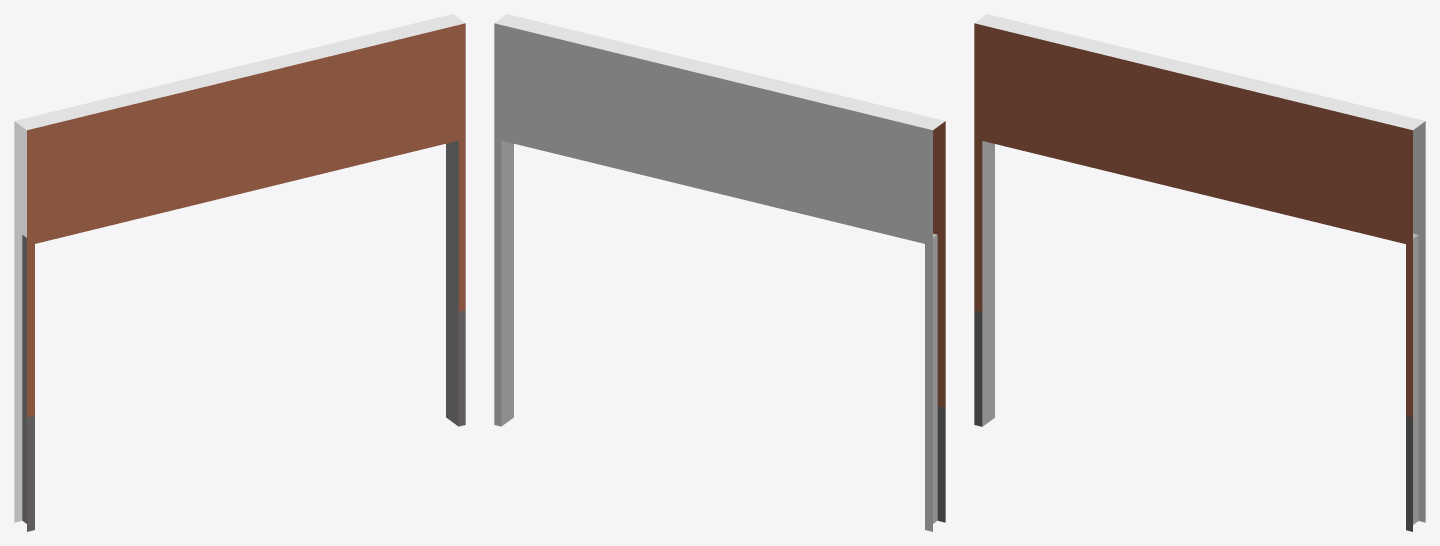
Rendered from SM_Outer_Wall_Door_C_400.FBX.
3 renders of one model, left to right at view 1: azimuth 30°, elevation 25°; view 2: azimuth 150°, elevation 25°; view 3: azimuth 330°, elevation 25°, orthographic.
Visible parts, largest first — view 1: SM_Outer_Wall_Door_C_400; view 2: SM_Outer_Wall_Door_C_400; view 3: SM_Outer_Wall_Door_C_400.
Boxes of the visible parts, x1,y1,x2,y2 form: SM_Outer_Wall_Door_C_400: (14,14,465,531); SM_Outer_Wall_Door_C_400: (494,14,945,531); SM_Outer_Wall_Door_C_400: (974,14,1425,531).
Bounding box in the file's own units: 400 × 20 × 350.
